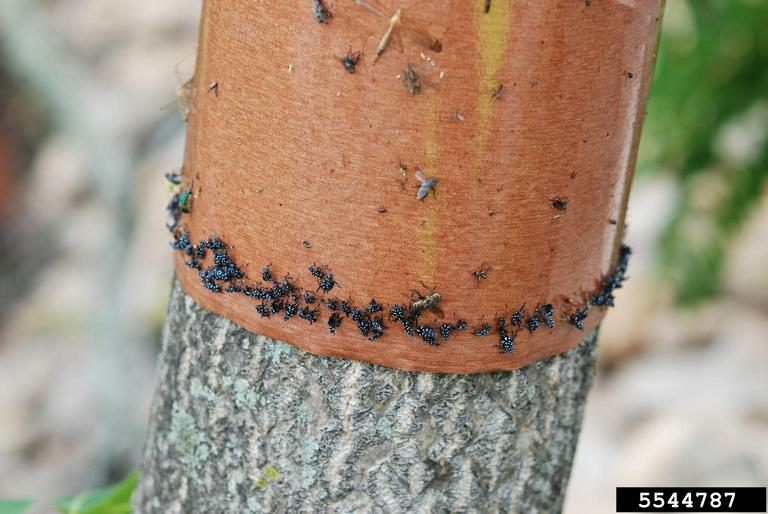instar nymph (1-3): (416, 325, 436, 347), (500, 331, 517, 355), (538, 303, 553, 328), (297, 306, 320, 322), (511, 301, 524, 328), (525, 310, 538, 333), (171, 235, 191, 248), (470, 323, 490, 336), (164, 168, 180, 184), (574, 302, 589, 318), (319, 271, 332, 289), (567, 314, 582, 328), (166, 217, 179, 233), (167, 193, 177, 213), (328, 312, 338, 332), (185, 259, 203, 270), (269, 298, 283, 312), (255, 304, 268, 319), (307, 264, 322, 277), (389, 303, 402, 318), (438, 322, 448, 341), (300, 289, 314, 302), (204, 283, 222, 293), (338, 298, 349, 314), (401, 321, 414, 334), (589, 293, 602, 306), (260, 265, 272, 279), (208, 239, 226, 248), (323, 297, 336, 309), (284, 302, 295, 316), (494, 317, 508, 328), (227, 268, 242, 278), (365, 299, 380, 309), (406, 310, 421, 320), (367, 319, 380, 330), (198, 270, 212, 280), (601, 284, 615, 294), (194, 244, 206, 255), (453, 319, 464, 331), (602, 294, 614, 305), (358, 319, 366, 335), (621, 244, 630, 258), (214, 269, 226, 279), (222, 255, 234, 265), (273, 283, 283, 295), (368, 332, 381, 341), (225, 283, 239, 291), (352, 306, 360, 320), (251, 287, 261, 298), (283, 281, 296, 289), (261, 288, 271, 298), (608, 277, 619, 285), (613, 270, 624, 278), (185, 244, 193, 254), (213, 253, 221, 263), (243, 284, 251, 294), (289, 291, 299, 299), (616, 262, 624, 270), (619, 257, 629, 263)
